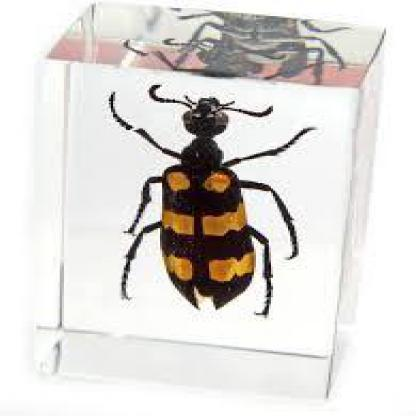blister beetle: (112, 96, 315, 309)
